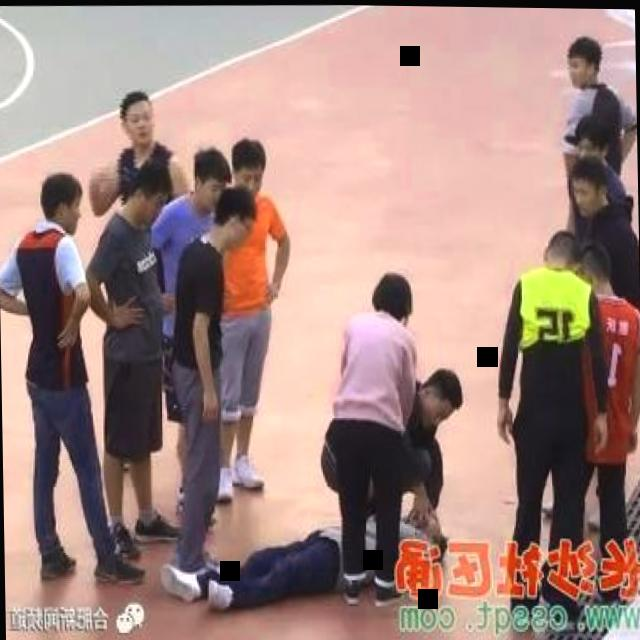Fall-Detected: (173, 491, 463, 620)
